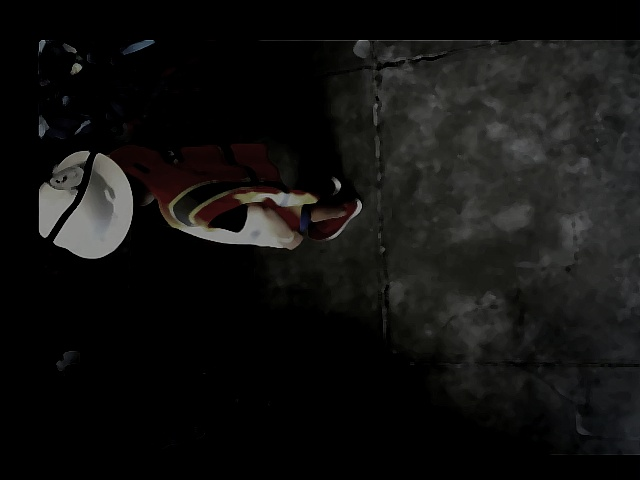three: (47, 165, 87, 190)
